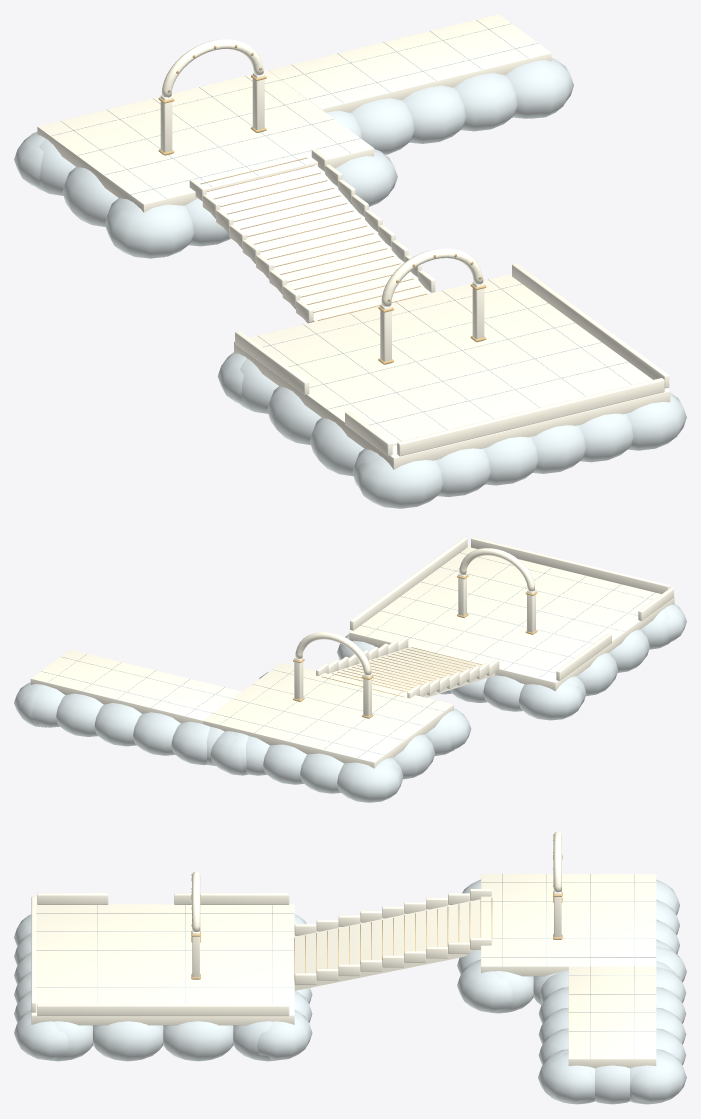
Rendered from sky_sector_arrival.glb.
3 views of the same model, one above another, from view 1: azimuth 30°, elevation 25°; view 2: azimuth 150°, elevation 25°; view 3: azimuth 270°, elevation 25° (orthographic). The views are drawn at different scales.
Parts seen in each view (by area): view 1: sky_sector_arrival_surface; view 2: sky_sector_arrival_surface; view 3: sky_sector_arrival_surface.
Part boxes in pixels (x1,y1,x2,y2): sky_sector_arrival_surface: (14,14,686,508); sky_sector_arrival_surface: (14,537,686,802); sky_sector_arrival_surface: (14,831,686,1104).
Size of the model in its own units: 45.7 by 17.34 by 61.42.
